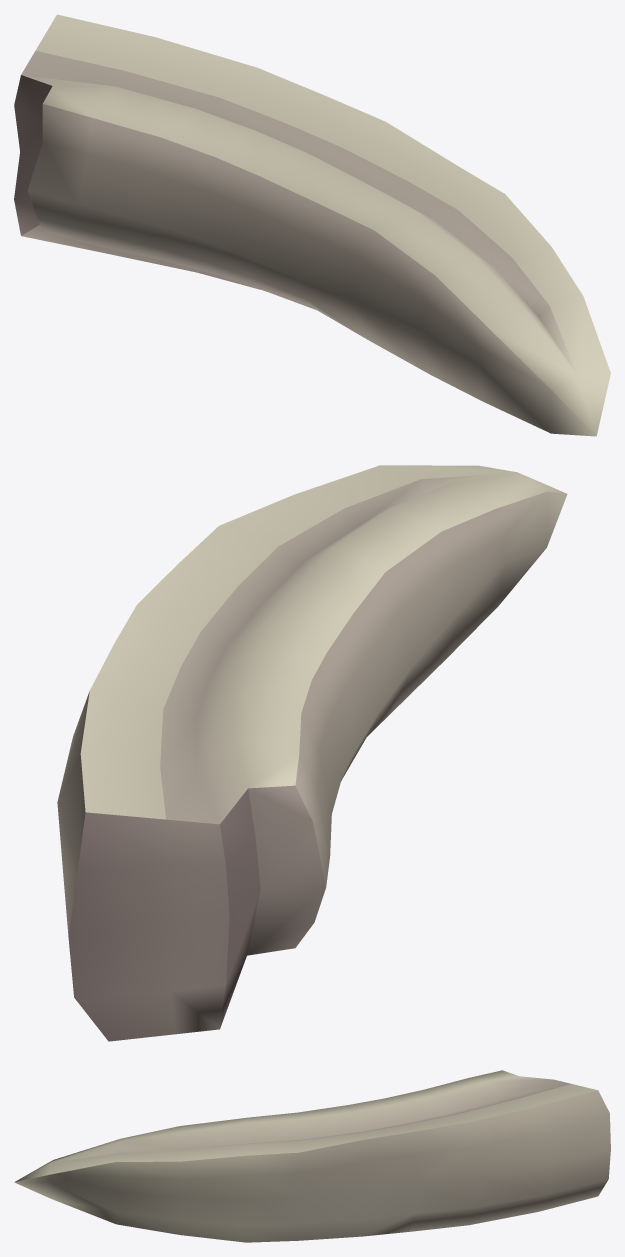
Rendered from animals-animalparts-tooth_v5.glb.
3 renders of one model, top to bottom at view 1: azimuth 30°, elevation 25°; view 2: azimuth 150°, elevation 25°; view 3: azimuth 270°, elevation 25°, orthographic. The views are drawn at different scales.
Parts seen in each view (by area): view 1: Tooth_v5; view 2: Tooth_v5; view 3: Tooth_v5.
Boxes of the visible parts, left/top/right/bottom form: Tooth_v5: left=14, top=14, right=610, bottom=436; Tooth_v5: left=57, top=465, right=567, bottom=1041; Tooth_v5: left=14, top=1070, right=610, bottom=1242.
Bounding box in the file's own units: 0.1437 × 0.0863 × 0.4103.
